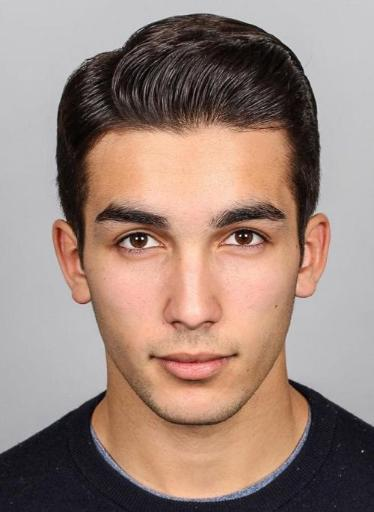left_eye: (219, 226, 274, 252)
left_lip_corner: (225, 347, 243, 365)
right_eye: (112, 229, 167, 256)
right_lip_corner: (147, 348, 166, 368)
